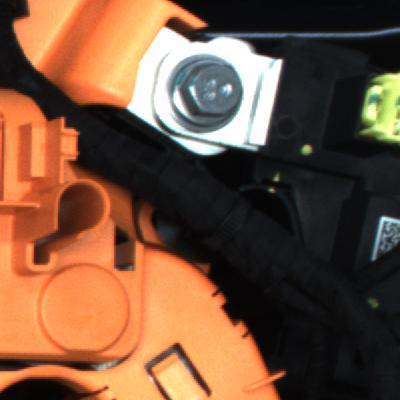nut_b: (146, 45, 271, 148)
